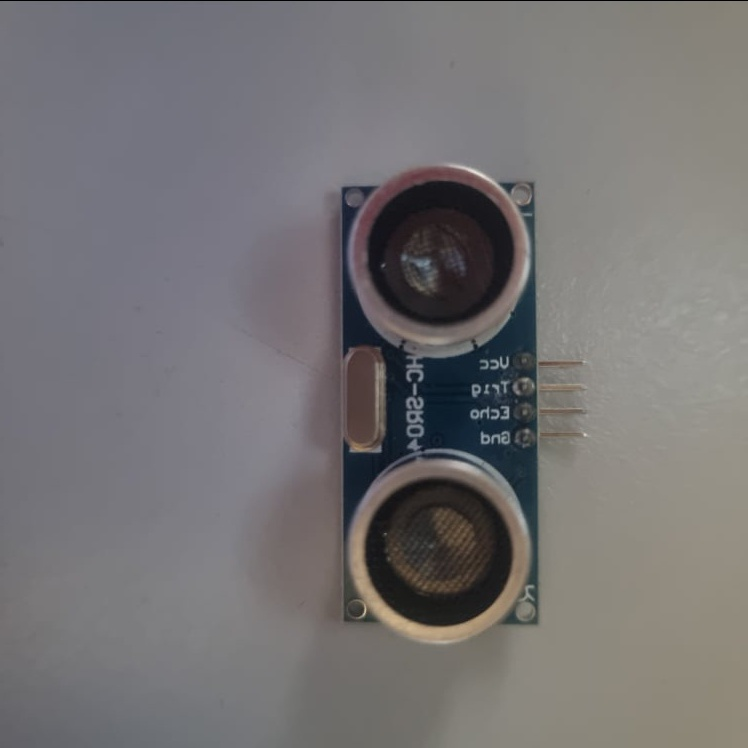SENSOR: (335, 157, 590, 645)
